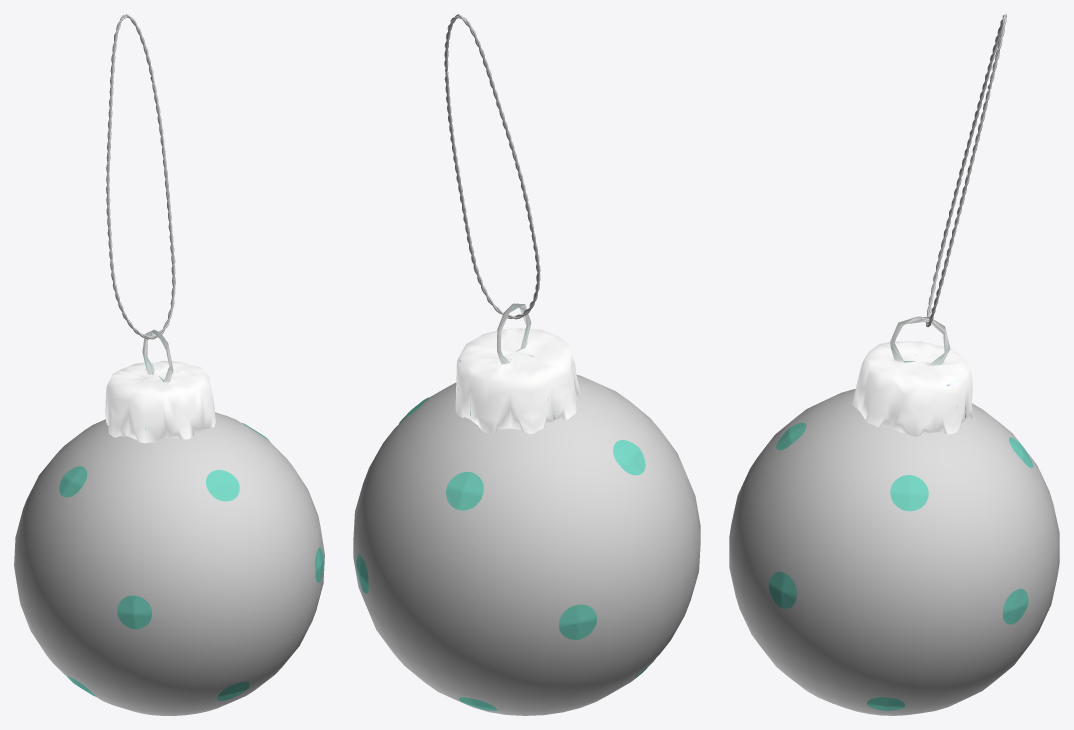
The model's file is Green_Dotted_orb2.glb.
3 views of the same model, side by side, from view 1: azimuth 30°, elevation 25°; view 2: azimuth 150°, elevation 25°; view 3: azimuth 270°, elevation 25° (orthographic). The views are drawn at different scales.
Visible parts, largest first — view 1: Circle009_1, Mesh10, Circle009, GN_Instance; view 2: Circle009_1, Mesh10, Circle009, GN_Instance; view 3: Circle009_1, Mesh10, Circle009, GN_Instance.
Part boxes in pixels (<box>): Circle009_1: <box>14,412,324,715</box>; Mesh10: <box>105,329,215,443</box>; Circle009: <box>59,423,323,700</box>; GN_Instance: <box>106,14,175,339</box>; Circle009_1: <box>353,374,700,715</box>; Mesh10: <box>455,303,580,433</box>; Circle009: <box>356,397,655,710</box>; GN_Instance: <box>444,14,540,319</box>; Circle009_1: <box>729,389,1059,715</box>; Mesh10: <box>852,316,972,436</box>; Circle009: <box>768,422,1033,710</box>; GN_Instance: <box>925,14,1006,327</box>.
Bounding box in the file's own units: 0.04 × 0.0916 × 0.0398.
Materials: 4 (1 with a texture image).
